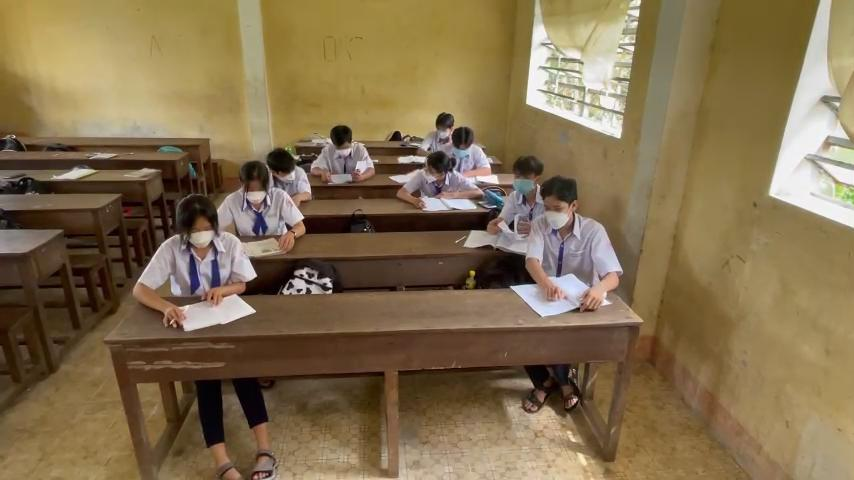Look Around: (416, 146, 462, 188), (257, 143, 303, 185)
